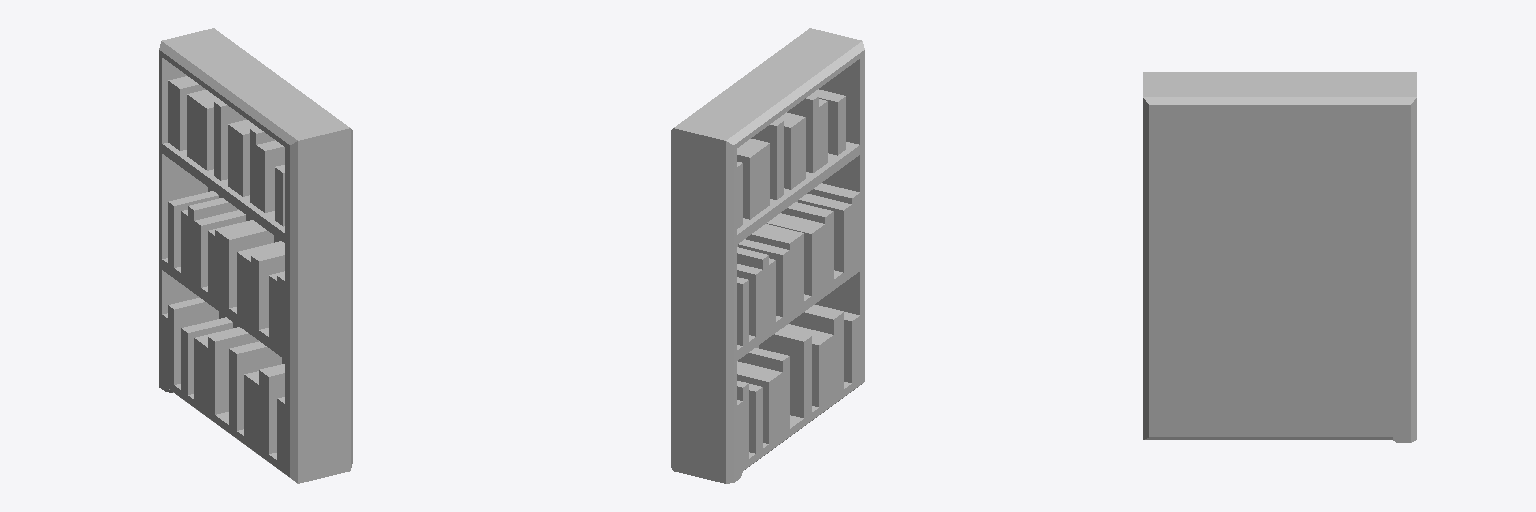
Rendered from Bookcase.obj.
3 renders of one model, left to right at view 1: azimuth 30°, elevation 25°; view 2: azimuth 150°, elevation 25°; view 3: azimuth 270°, elevation 25°, orthographic.
Parts seen in each view (by area): view 1: pCube10; view 2: pCube10; view 3: pCube10.
Boxes of the visible parts, x1=… form: pCube10: x1=159, y1=28, x2=352, y2=483; pCube10: x1=671, y1=28, x2=864, y2=483; pCube10: x1=1143, y1=72, x2=1416, y2=442.
Bounding box in the file's own units: 29.54 × 154 × 111.